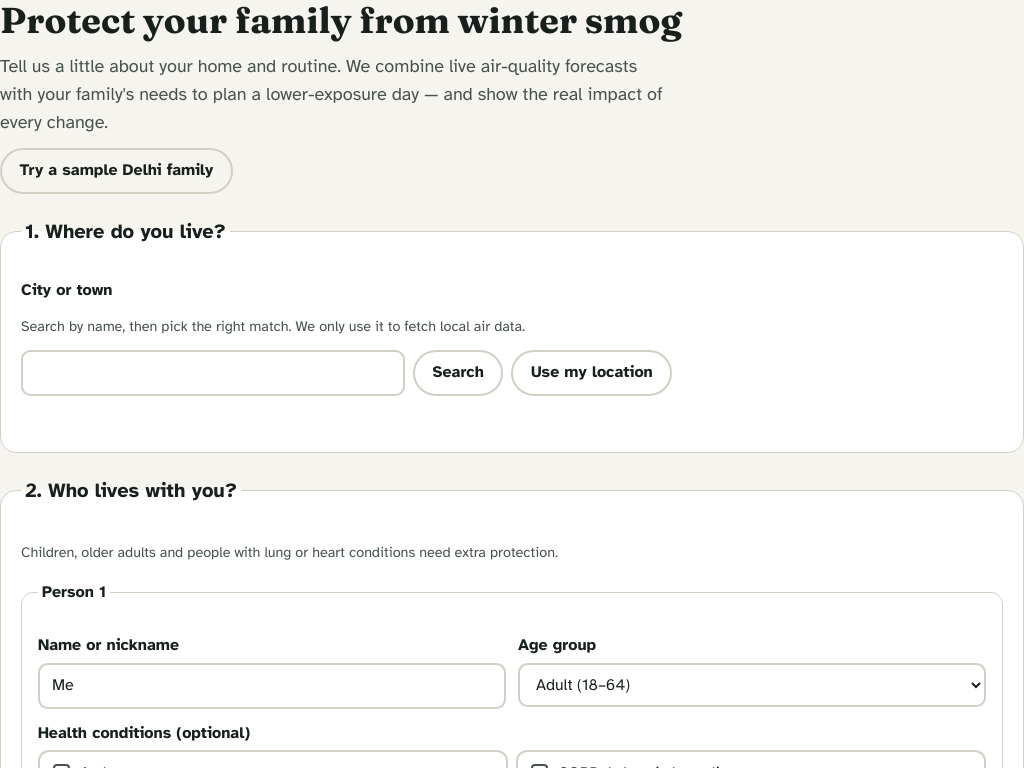
it: App › goes from setup to dashboard and back to editing
The width and height of the screenshot is (1024, 768).
Click the button "Try a sample Delhi family".
click(116, 171)  # box [0,148,233,194]
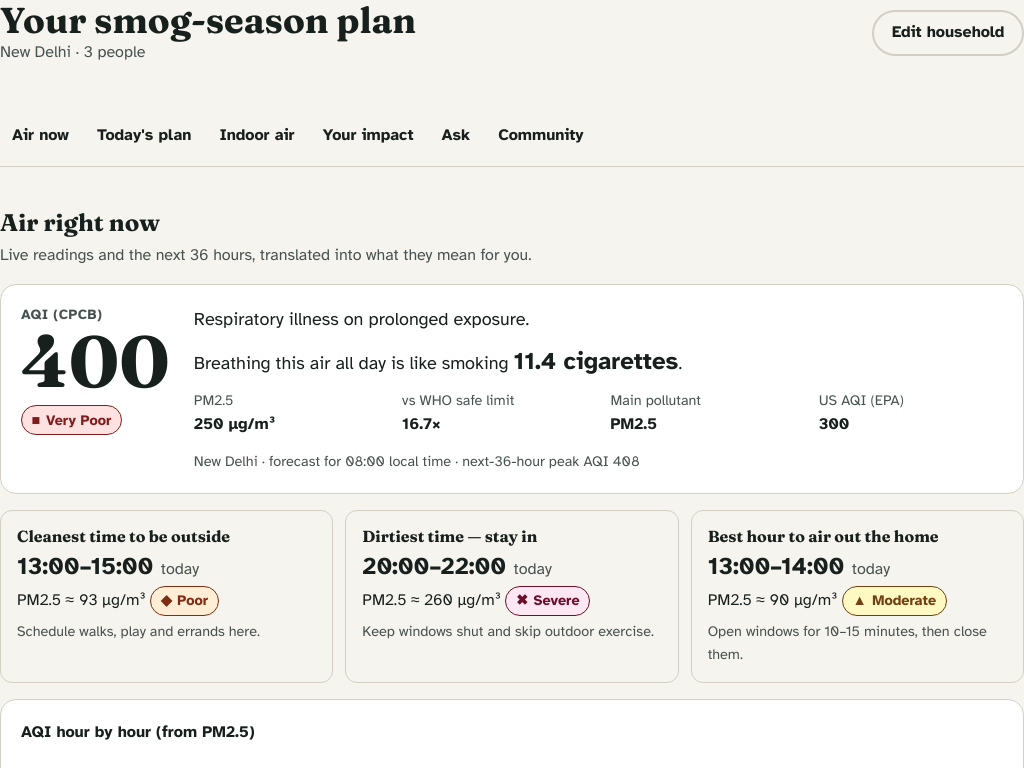
Check: the heading "Your smog-season plan" is shown, box [0,0,416,40]
Click the button "Edit household".
click(948, 33)  # box [872,10,1023,56]
(page scrolled)
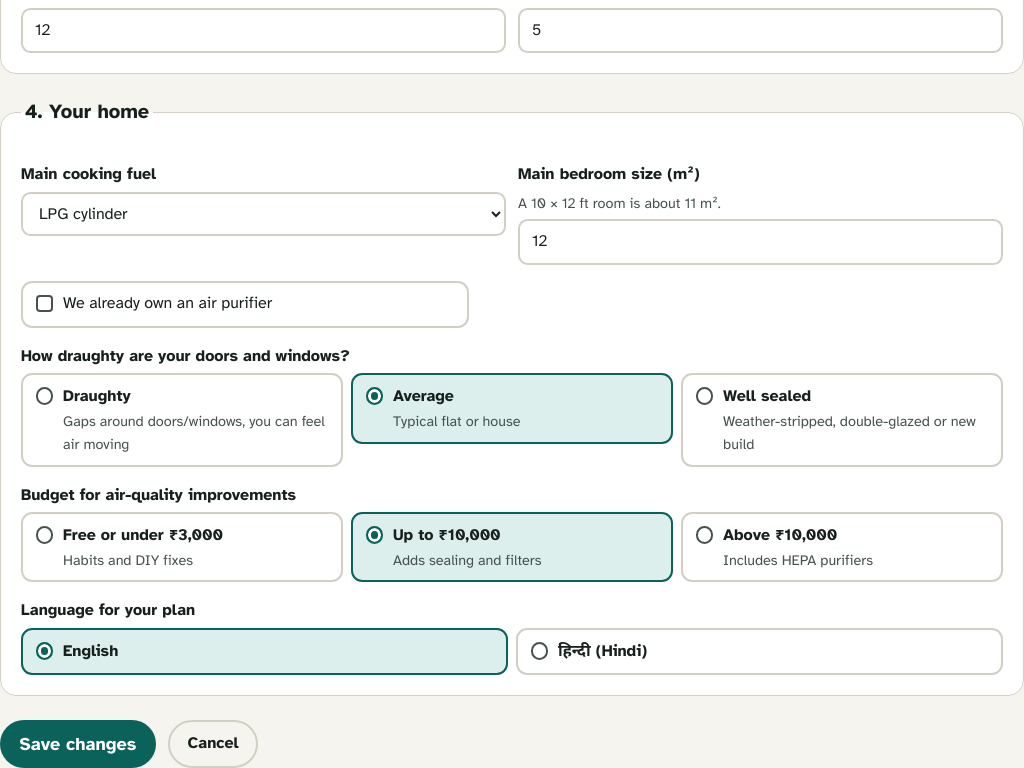
Click the button "Save changes".
click(78, 744)  # box [0,720,156,767]
(page scrolled)
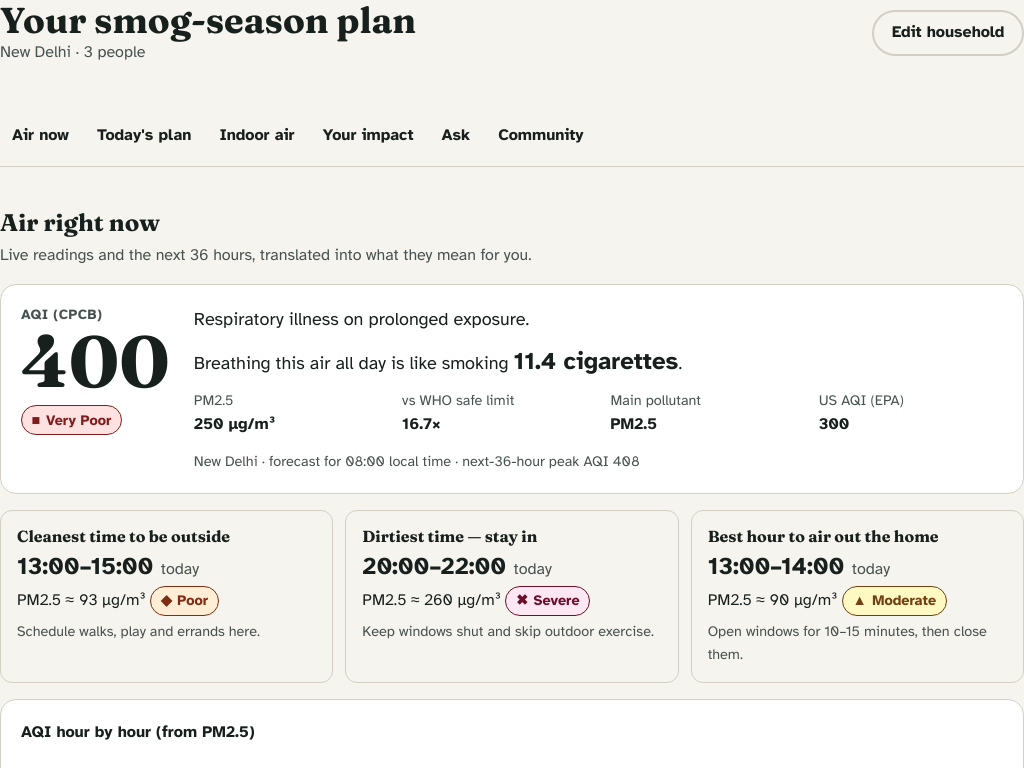
Check: the heading "Your smog-season plan" is shown, box [0,0,416,40]
